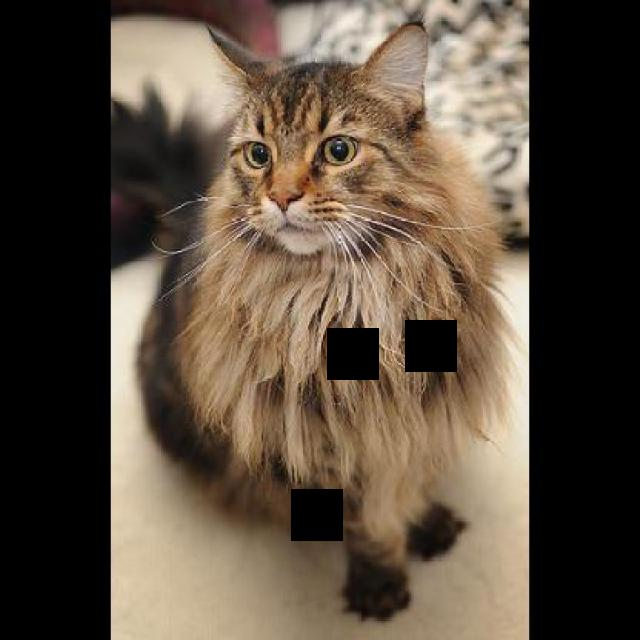unauthorized: (118, 16, 524, 622)
